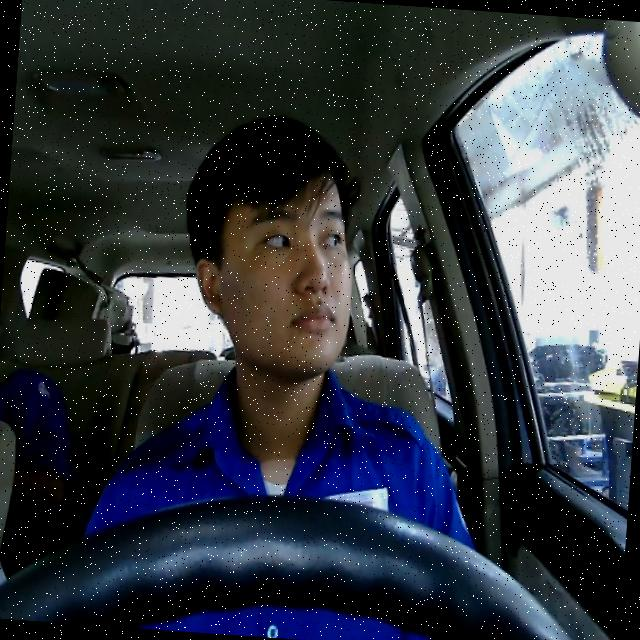seeing_right: (186, 159, 360, 378)
